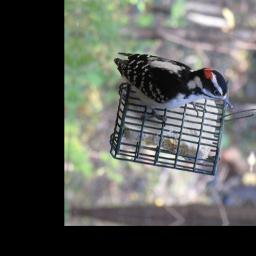Woodpecker: (109, 52, 238, 131)
